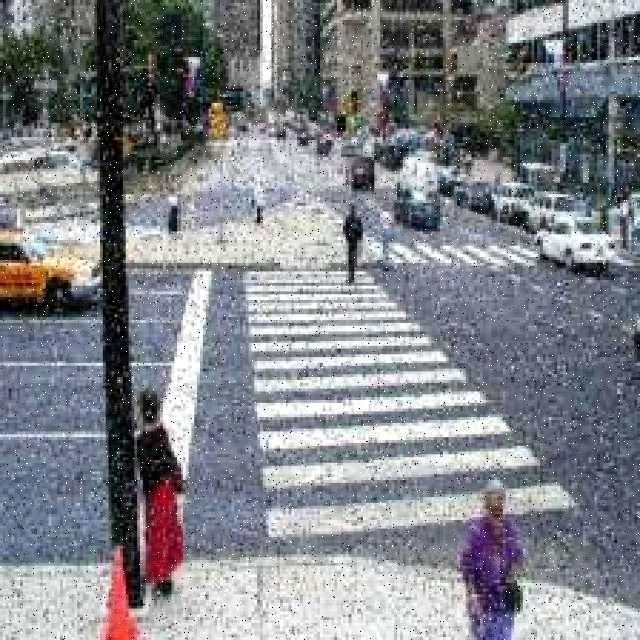crosswalk: (96, 250, 632, 614)
